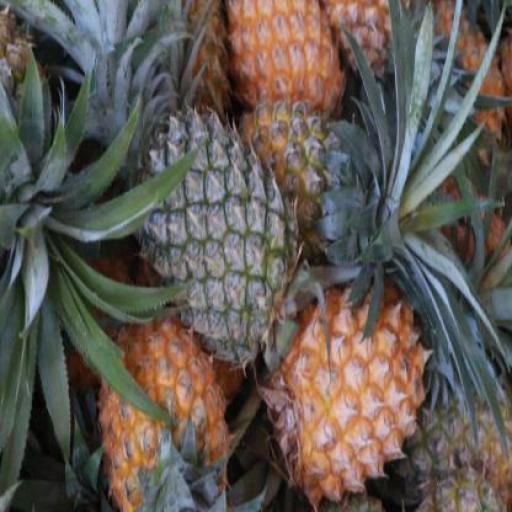Pineapple - v8 v1: (269, 291, 429, 500), (97, 324, 238, 512), (230, 0, 343, 130)
